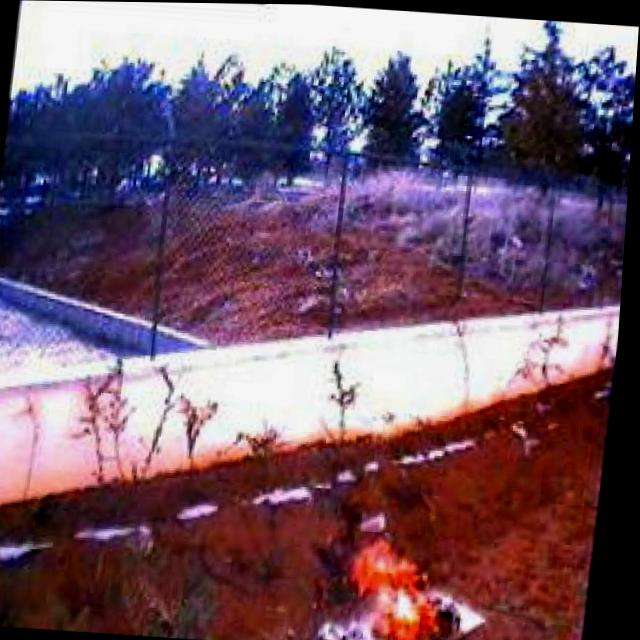Fire: (348, 533, 483, 640)
